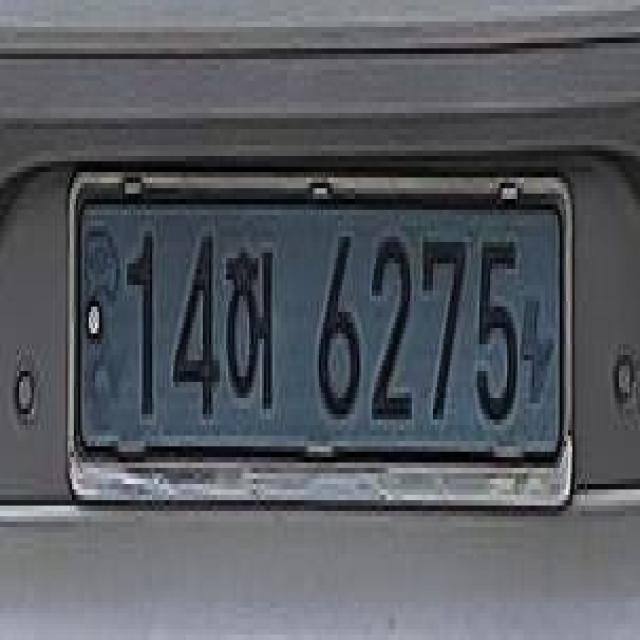EV_plate: (61, 137, 578, 528)
